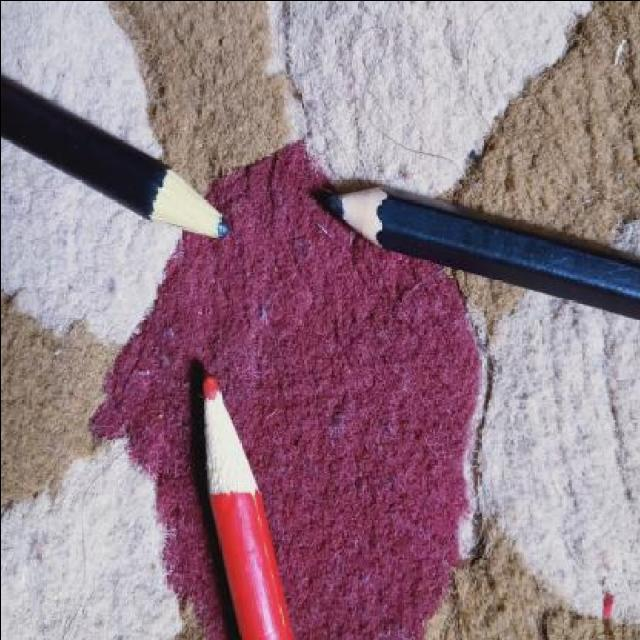pencil: (192, 362, 264, 524), (139, 162, 236, 256), (302, 176, 396, 253)
